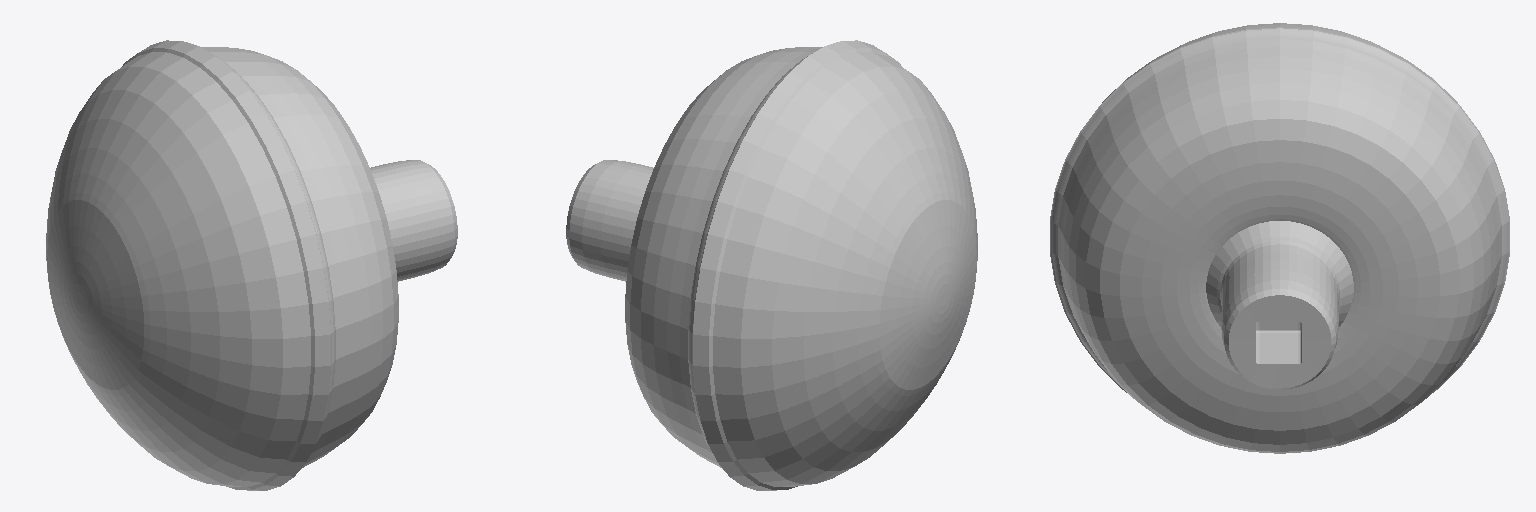
The model's file is doorknob1.obj.
3 renders of one model, left to right at view 1: azimuth 30°, elevation 25°; view 2: azimuth 150°, elevation 25°; view 3: azimuth 270°, elevation 25°, orthographic.
Parts seen in each view (by area): view 1: doorKnob.001; view 2: doorKnob.001; view 3: doorKnob.001.
Boxes of the visible parts, x1=… form: doorKnob.001: x1=46, y1=40, x2=457, y2=490; doorKnob.001: x1=566, y1=40, x2=977, y2=490; doorKnob.001: x1=1050, y1=23, x2=1509, y2=453.
Size of the model in its own units: 14.63 by 16.62 by 16.58.